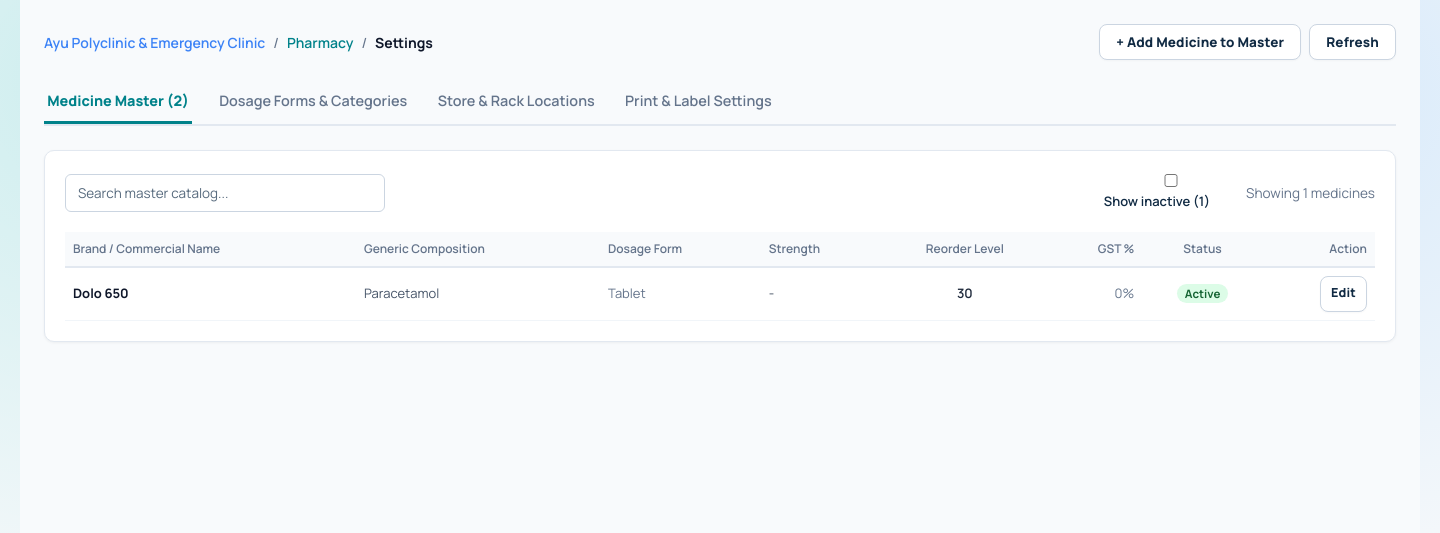
it: Pharmacy Settings › shows real master status and GST, hiding inactive medicines until asked
Check: the text "Dolo 650" is shown, box [65,267,356,320]
Check: the text "Old Syrup" is not shown
Click the checkbox labelled "Show inactive (1)".
click(1171, 180)  # box [1108,174,1234,187]
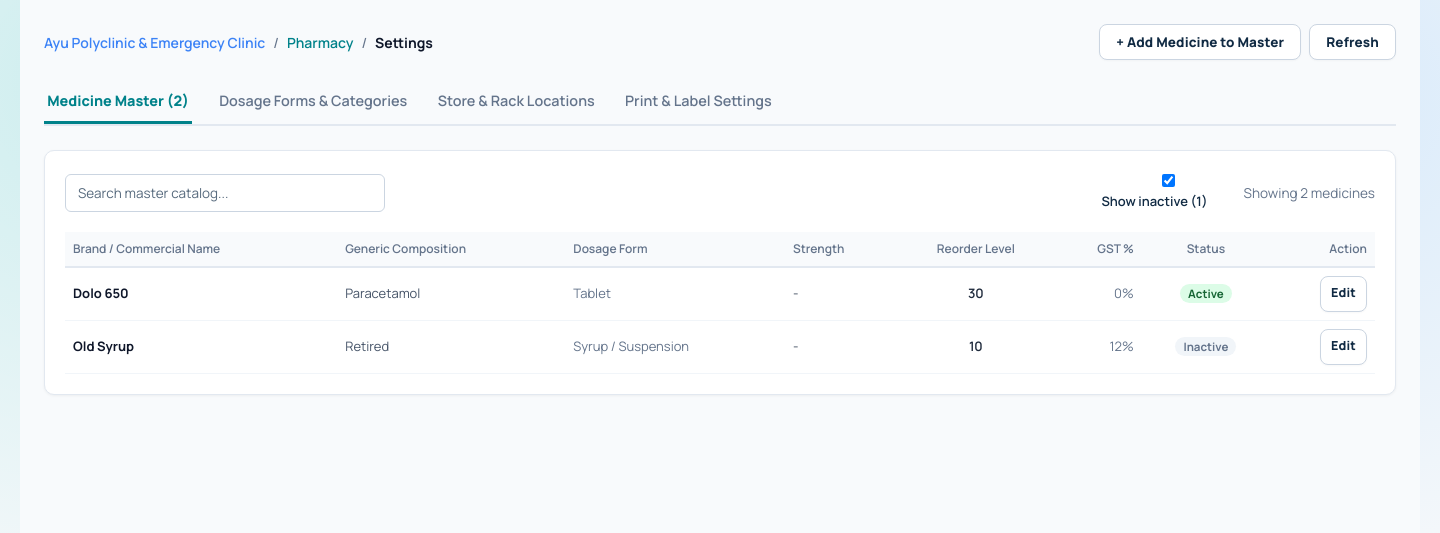
Check: the text "Old Syrup" is shown, box [65,320,337,373]
Check: the text "Inactive" is shown, box [1175,337,1236,356]
